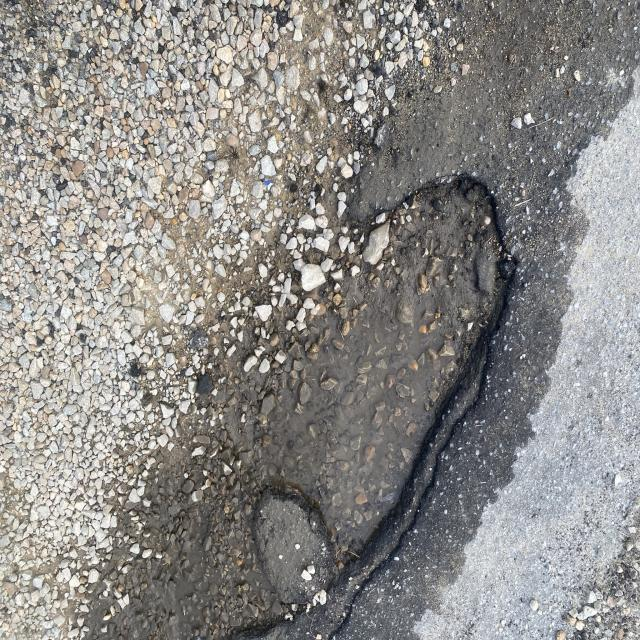pothole: (213, 126, 522, 640)
